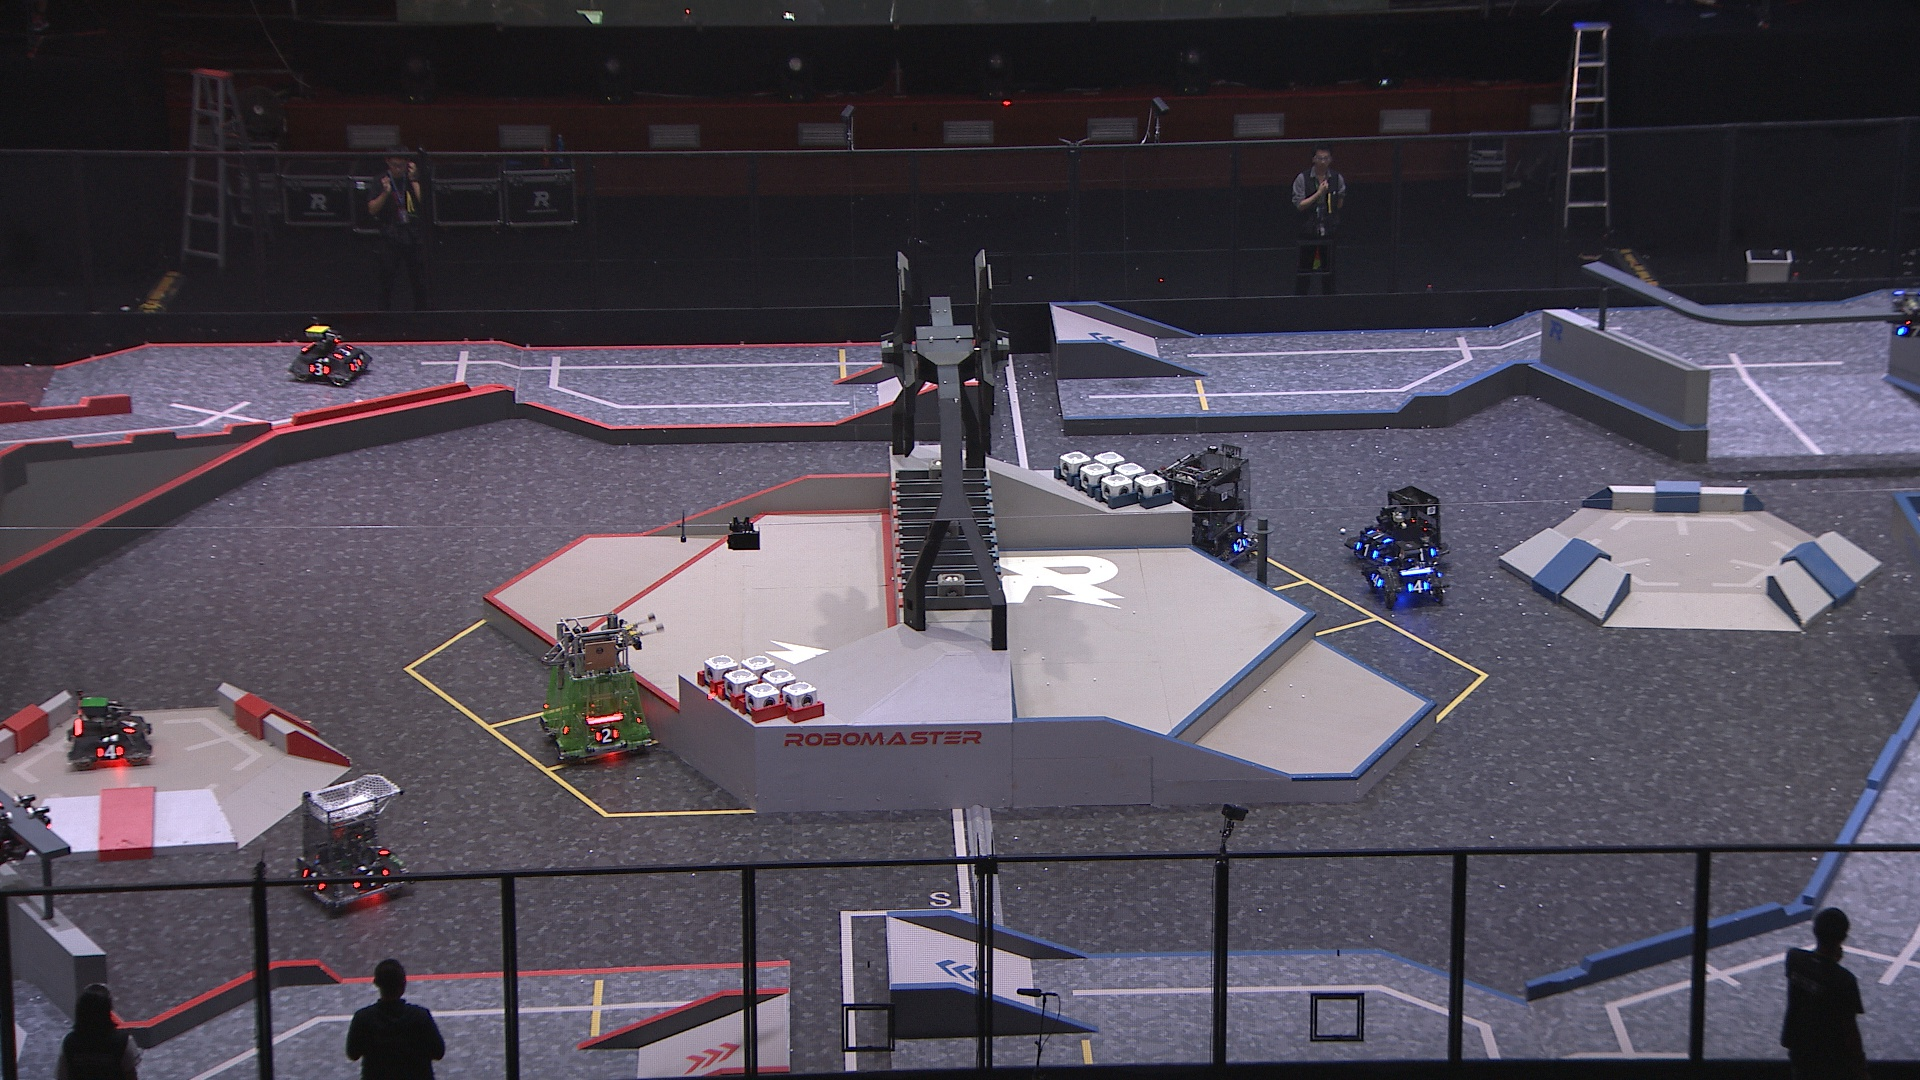armor: (351, 869, 392, 889), (301, 868, 328, 894), (1353, 541, 1379, 559), (591, 727, 618, 744), (96, 745, 125, 760), (1366, 529, 1393, 545), (1411, 549, 1437, 564), (306, 363, 330, 380), (1896, 324, 1920, 339), (119, 717, 138, 735), (1404, 580, 1429, 593), (368, 843, 390, 856), (1229, 537, 1247, 553), (347, 357, 367, 372), (330, 345, 353, 357), (1367, 574, 1385, 589), (555, 719, 571, 736)
car: (539, 609, 659, 766), (287, 773, 413, 916), (1154, 438, 1267, 570), (1346, 484, 1452, 570), (67, 687, 154, 770), (1362, 535, 1447, 609), (287, 323, 377, 386)
watcher: (1887, 291, 1920, 342)
